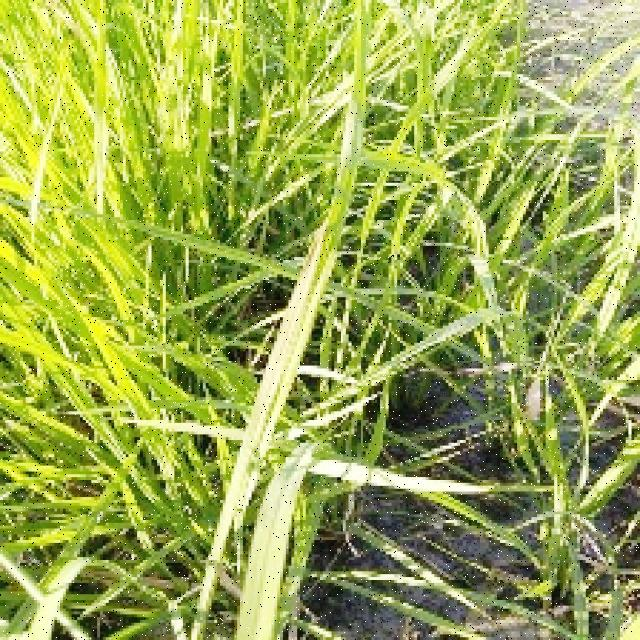health: (1, 1, 215, 387)
